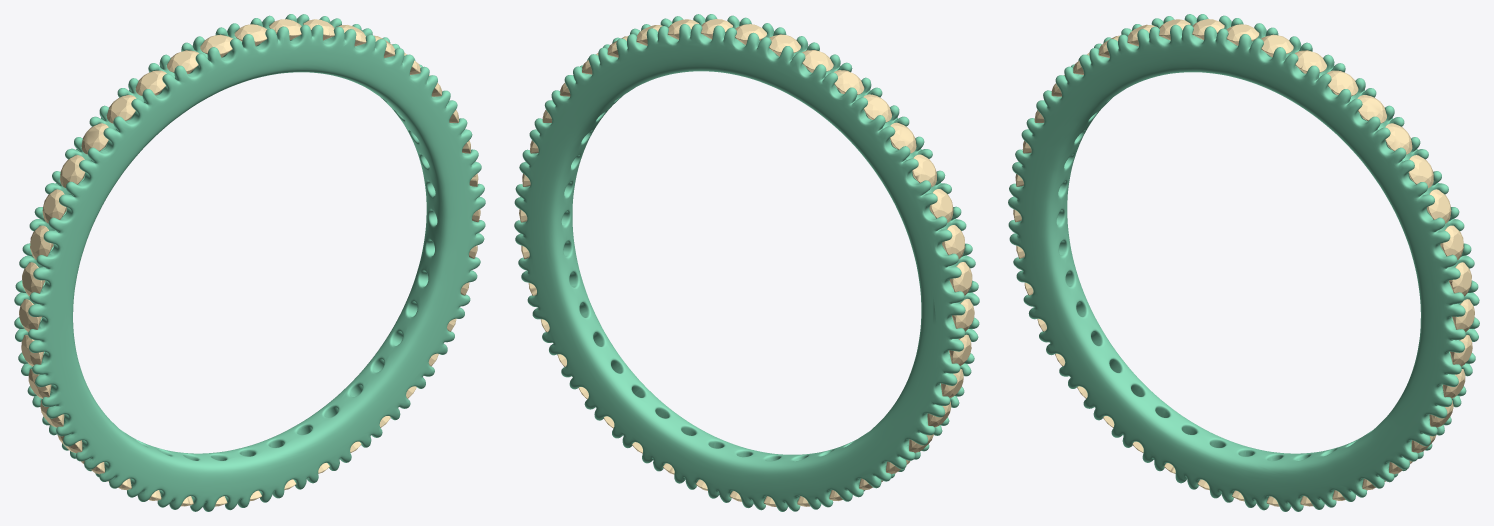
3 renders of one model, left to right at view 1: azimuth 30°, elevation 25°; view 2: azimuth 150°, elevation 25°; view 3: azimuth 330°, elevation 25°, orthographic.
Parts seen in each view (by area): view 1: Metal02, Diamond_Round.015, Diamond_Round.014, Diamond_Round.016, Diamond_Round.013, Diamond_Round.017; view 2: Metal02, Diamond_Round.015, Diamond_Round.014, Diamond_Round.016, Diamond_Round.013; view 3: Metal02, Diamond_Round.004, Diamond_Round.005, Diamond_Round.003, Diamond_Round.006, Diamond_Round.002.
Boxes of the visible parts, bbox=[...] form: Metal02: bbox=[14, 14, 485, 511]; Diamond_Round.015: bbox=[81, 123, 108, 154]; Diamond_Round.014: bbox=[60, 155, 85, 187]; Diamond_Round.016: bbox=[106, 95, 136, 123]; Diamond_Round.013: bbox=[42, 189, 66, 223]; Diamond_Round.017: bbox=[135, 70, 166, 95]; Metal02: bbox=[514, 14, 979, 511]; Diamond_Round.015: bbox=[890, 122, 916, 153]; Diamond_Round.014: bbox=[912, 154, 936, 187]; Diamond_Round.016: bbox=[863, 94, 891, 122]; Diamond_Round.013: bbox=[929, 189, 953, 222]; Metal02: bbox=[1008, 14, 1479, 511]; Diamond_Round.004: bbox=[1385, 123, 1412, 154]; Diamond_Round.005: bbox=[1408, 155, 1433, 187]; Diamond_Round.003: bbox=[1357, 95, 1386, 123]; Diamond_Round.006: bbox=[1427, 189, 1451, 223]; Diamond_Round.002: bbox=[1327, 70, 1358, 95].
Bounding box in the file's own units: 20.62 × 20.63 × 2.08.
